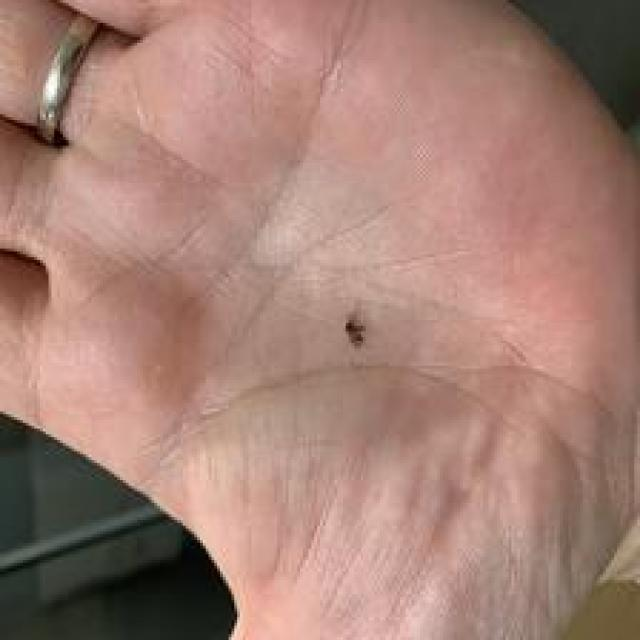Aedes albopictus: (33, 12, 101, 148)
